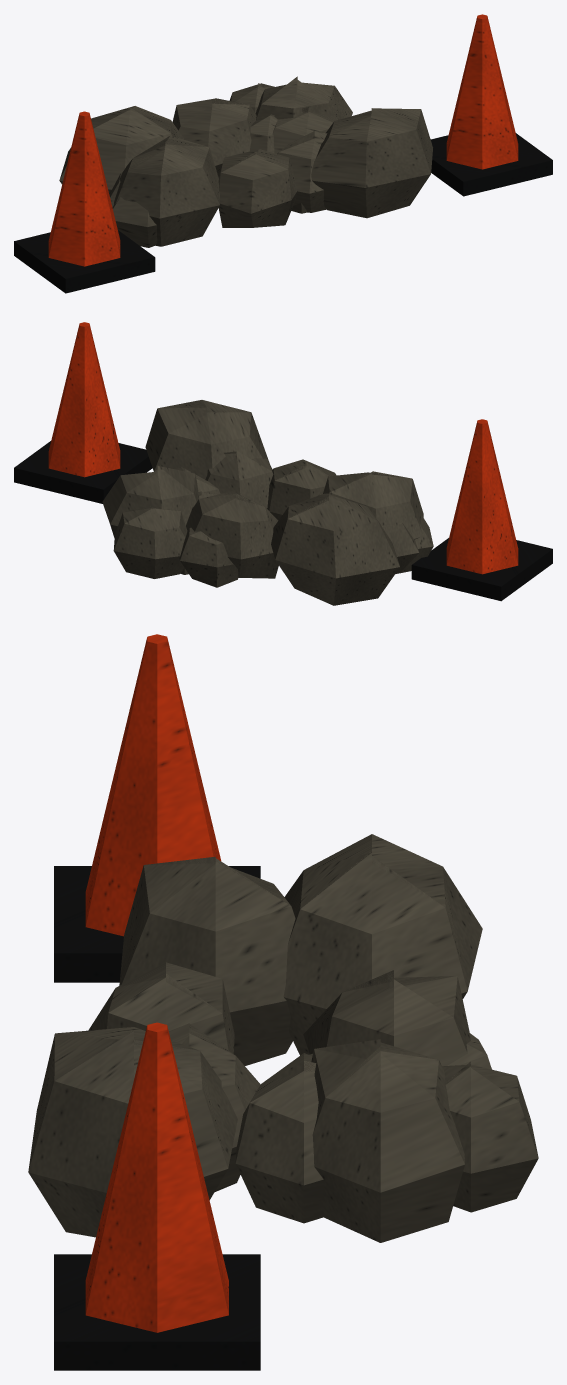
File: PROP-D143798EFE91_lod2.glb
3 views of the same model, one above another, from view 1: azimuth 30°, elevation 25°; view 2: azimuth 150°, elevation 25°; view 3: azimuth 270°, elevation 25° (orthographic). The views are drawn at different scales.
Parts seen in each view (by area): view 1: rock.006, cone.001, cone_base.001; view 2: rock.006, cone.001, cone_base.001; view 3: rock.006, cone.001, cone_base.001.
Part boxes in pixels (<box>): rock.006: <box>59,76,432,247</box>; cone.001: <box>48,14,518,266</box>; cone_base.001: <box>14,133,552,293</box>; rock.006: <box>102,400,433,605</box>; cone.001: <box>48,322,518,574</box>; cone_base.001: <box>14,441,552,601</box>; rock.006: <box>28,834,538,1242</box>; cone.001: <box>85,634,228,1332</box>; cone_base.001: <box>54,866,260,1370</box>.
Bounding box in the file's own units: 2.45 × 0.72 × 1.11.
3 materials, 3 textured.
